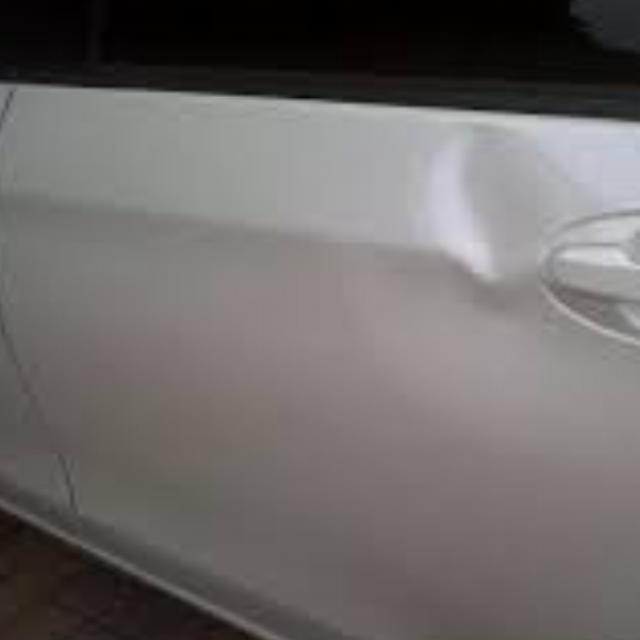dents: (398, 123, 578, 305)
